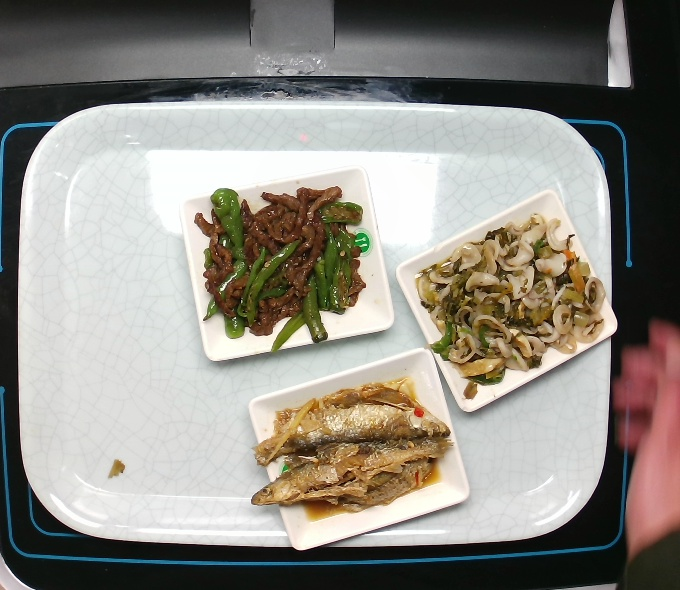wcq-QingJiaoNiuRou: (194, 181, 369, 341)
wcq-XiaoXiYu: (250, 388, 455, 515)
wcq-XueCaiYouYu: (412, 211, 611, 395)
